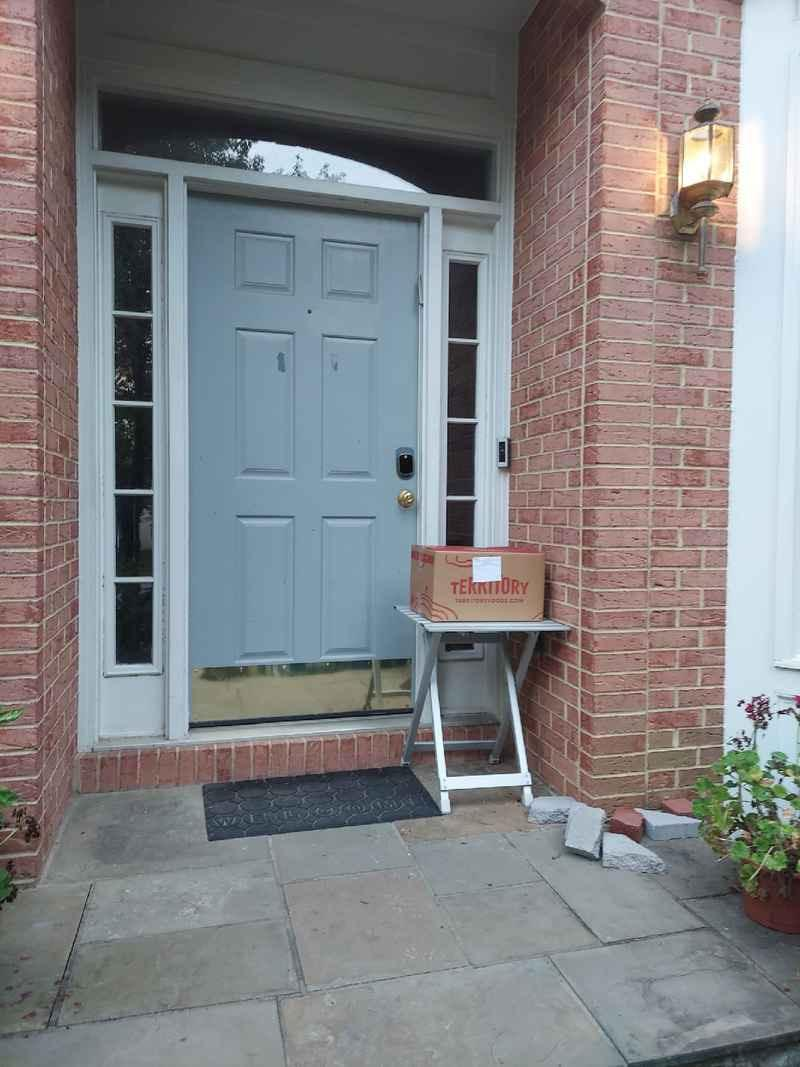package: (396, 535, 568, 624)
